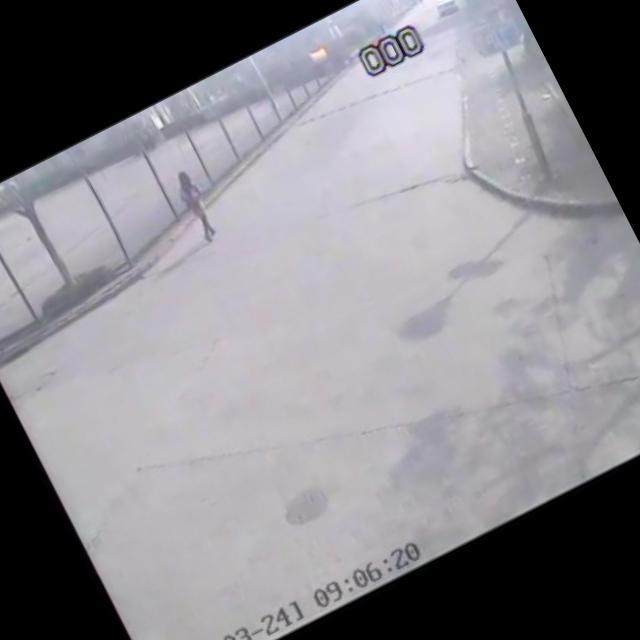person: (151, 156, 237, 264)
